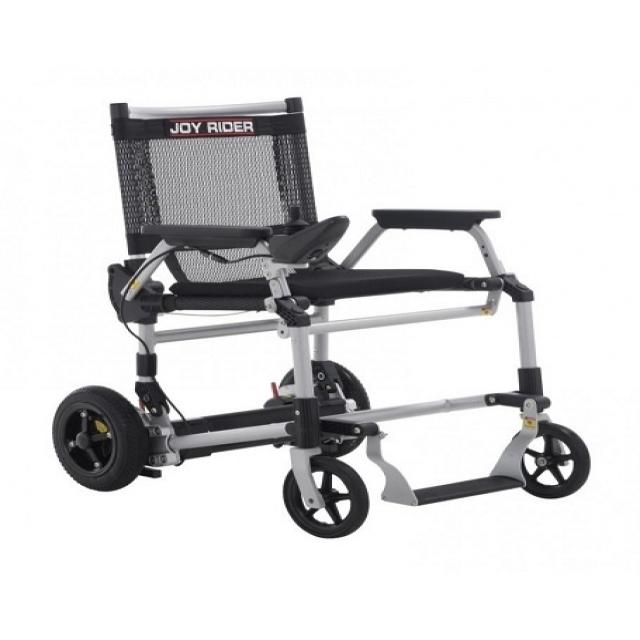wheelchair: (48, 72, 612, 551)
